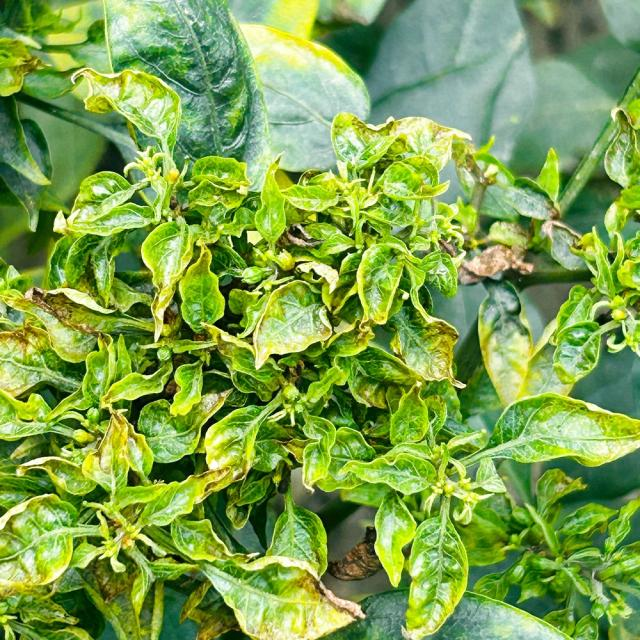Chilli_Leaf_Curl: (1, 5, 638, 638), (453, 391, 639, 470), (250, 279, 333, 370)
